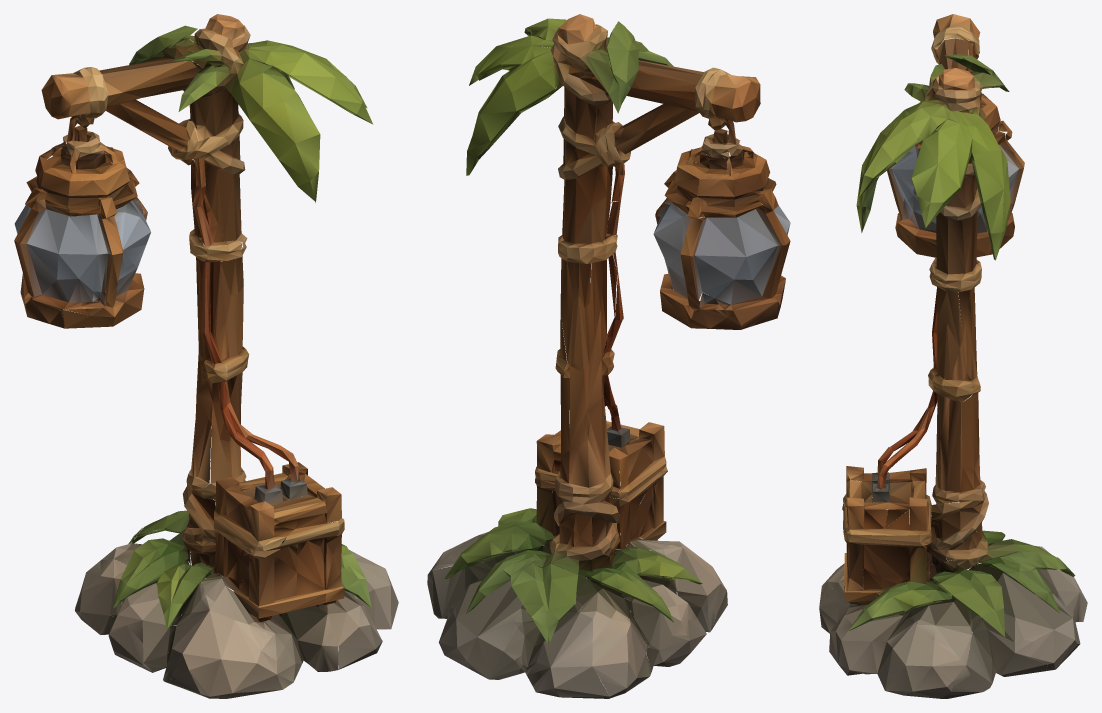
The model's file is building-circuitLamp.glb.
3 renders of one model, left to right at view 1: azimuth 30°, elevation 25°; view 2: azimuth 150°, elevation 25°; view 3: azimuth 270°, elevation 25°, orthographic. The views are drawn at different scales.
Visible parts, largest first — view 1: 0_circuitLamp; view 2: 0_circuitLamp; view 3: 0_circuitLamp.
Boxes of the visible parts, left/top/right/bottom form: 0_circuitLamp: left=14, top=14, right=398, bottom=698; 0_circuitLamp: left=427, top=14, right=790, bottom=698; 0_circuitLamp: left=819, top=14, right=1087, bottom=698.
Size of the model in its own units: 1.55 by 2.5 by 1.08.
